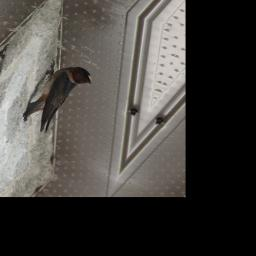Swallow: (17, 56, 96, 141)
